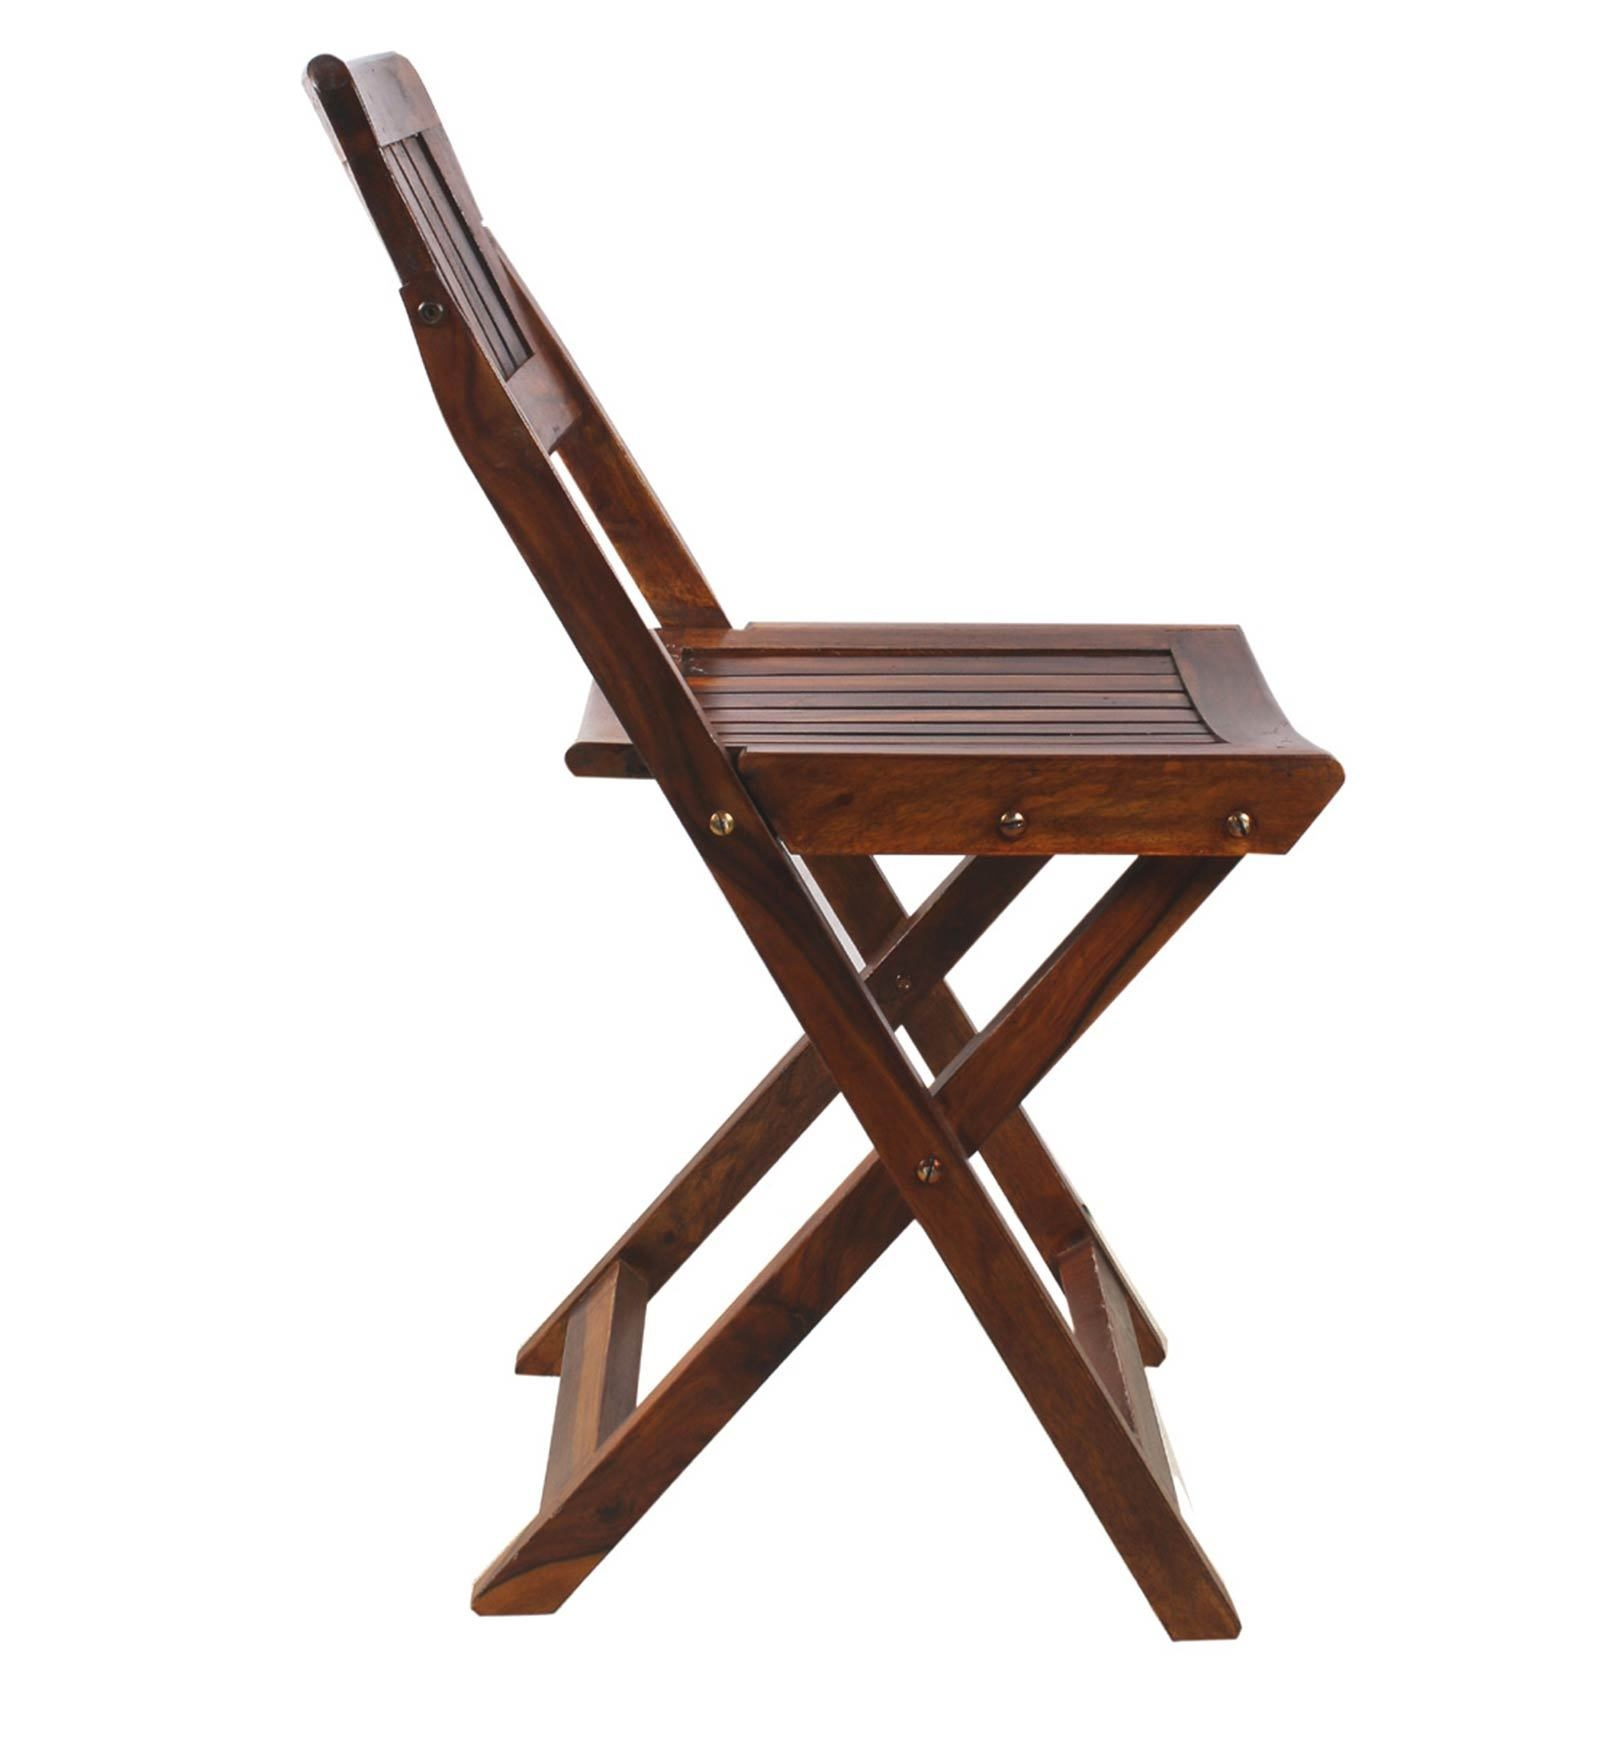Sheesham Wood Folding Chair in Walnut Finish by VarEesha: (241, 11, 1378, 1686)
